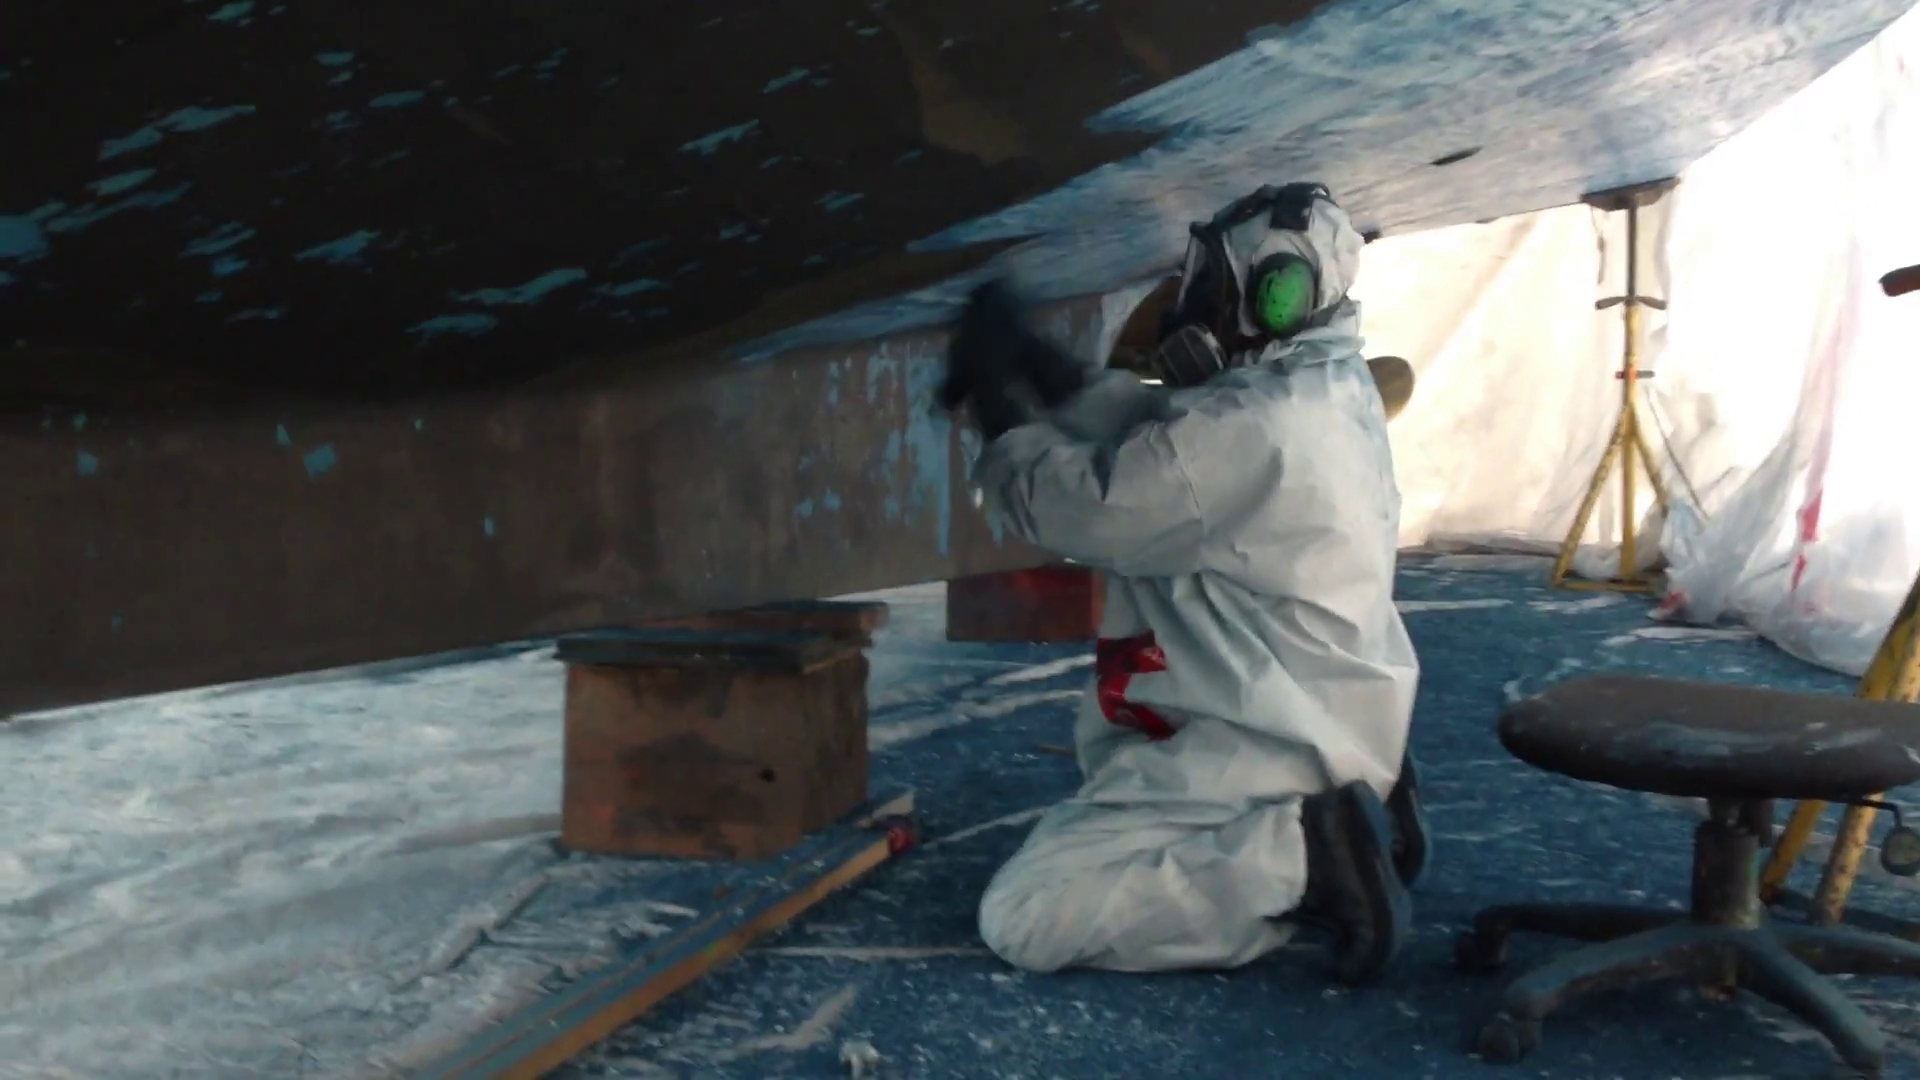person: (937, 184, 1433, 985)
